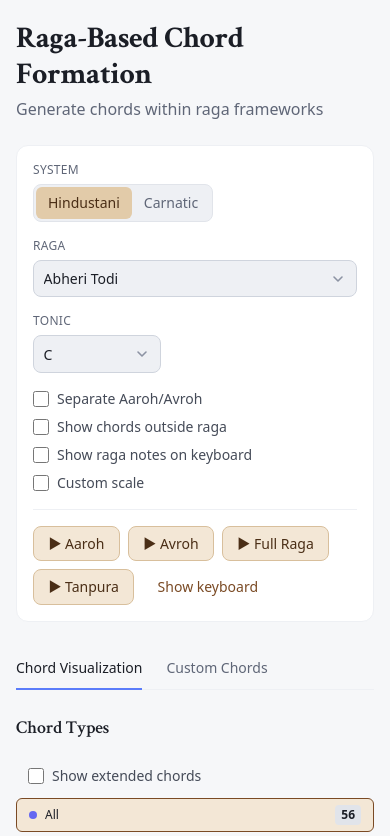
Test: ChordTool progression templates › lists templates with a fit badge and suggests ones matching the thaat first
This screenshot has width=390, height=836.
Select "Kafi" in the dropdown labelled "Raga" at (195, 279), box [33,260,357,297]
(page scrolled)
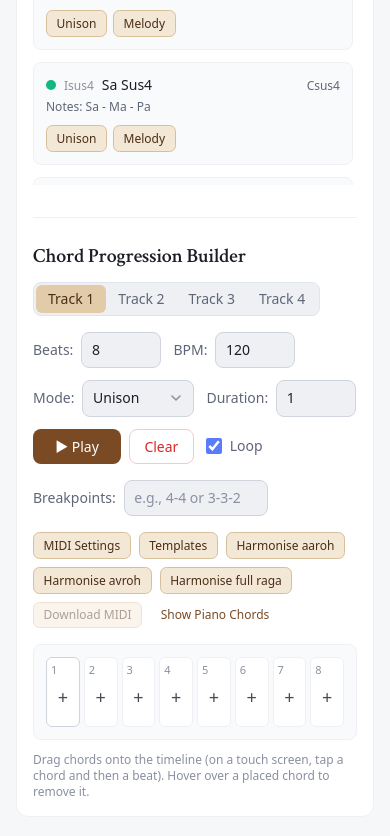
Click the button "Templates" at (178, 546), box [139,532,218,559]
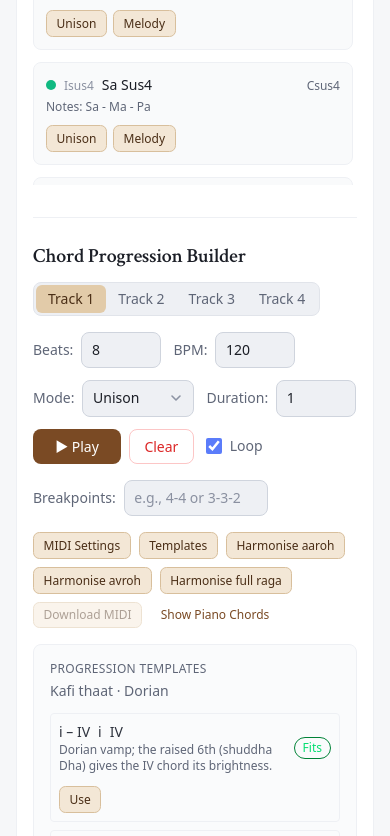
Expected: the text "Kafi thaat · Dorian" is shown, [50,681,169,700]
Expected: the element with test id "template-row" shows "i – IV", [59,722,90,741]
Expected: the element with test id "template-row" shows "Fits", [303,739,322,756]
